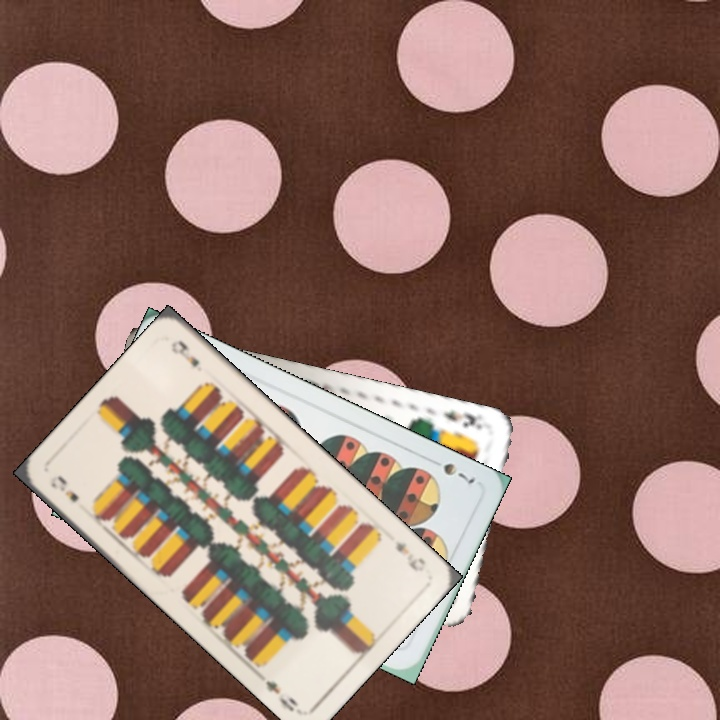E9: (390, 537, 428, 574), (46, 471, 82, 505)
EK: (439, 407, 485, 432)
S7: (425, 454, 478, 487)
